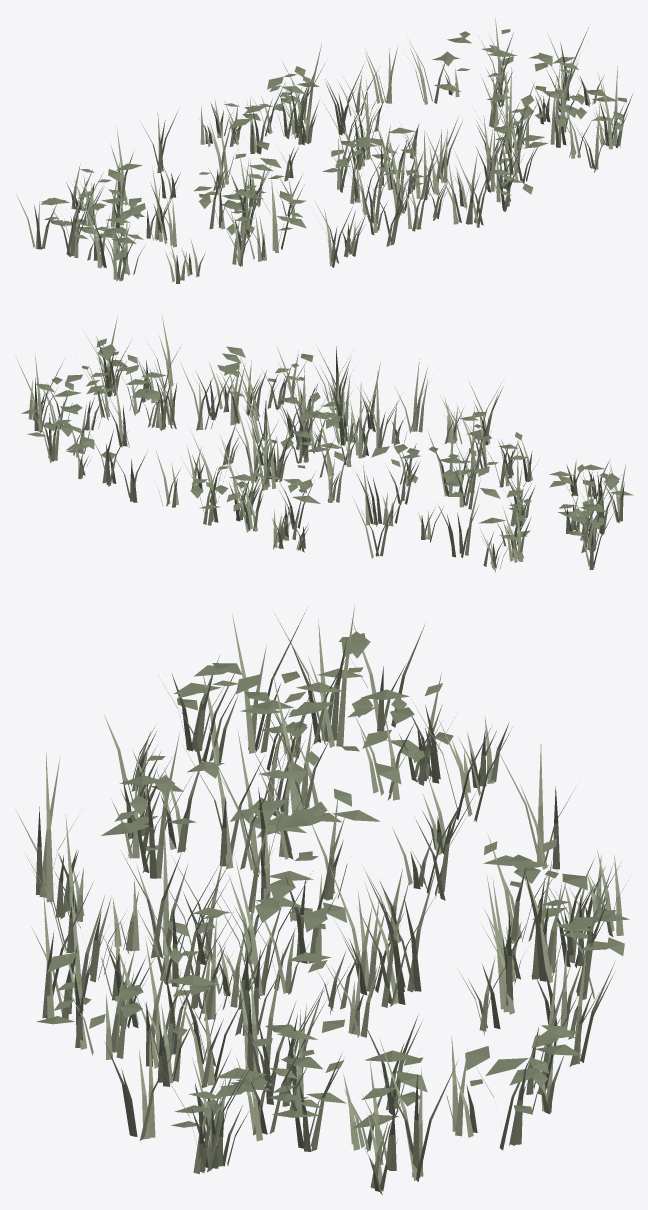
File: AE_Encroachment_12.fbx
The picture shows the model from 3 angles, top to bottom: view 1: azimuth 30°, elevation 25°; view 2: azimuth 150°, elevation 25°; view 3: azimuth 270°, elevation 25°; orthographic projection. The views are drawn at different scales.
Parts seen in each view (by area): view 1: AE_Encroachment_12_LOD0; view 2: AE_Encroachment_12_LOD0; view 3: AE_Encroachment_12_LOD0.
Part boxes in pixels (x1=…): AE_Encroachment_12_LOD0: x1=16, y1=17, x2=632, y2=283; AE_Encroachment_12_LOD0: x1=15, y1=314, x2=633, y2=572; AE_Encroachment_12_LOD0: x1=15, y1=605, x2=629, y2=1195.
Size of what is drawn, in the model's own units: 805 by 112 by 420.
